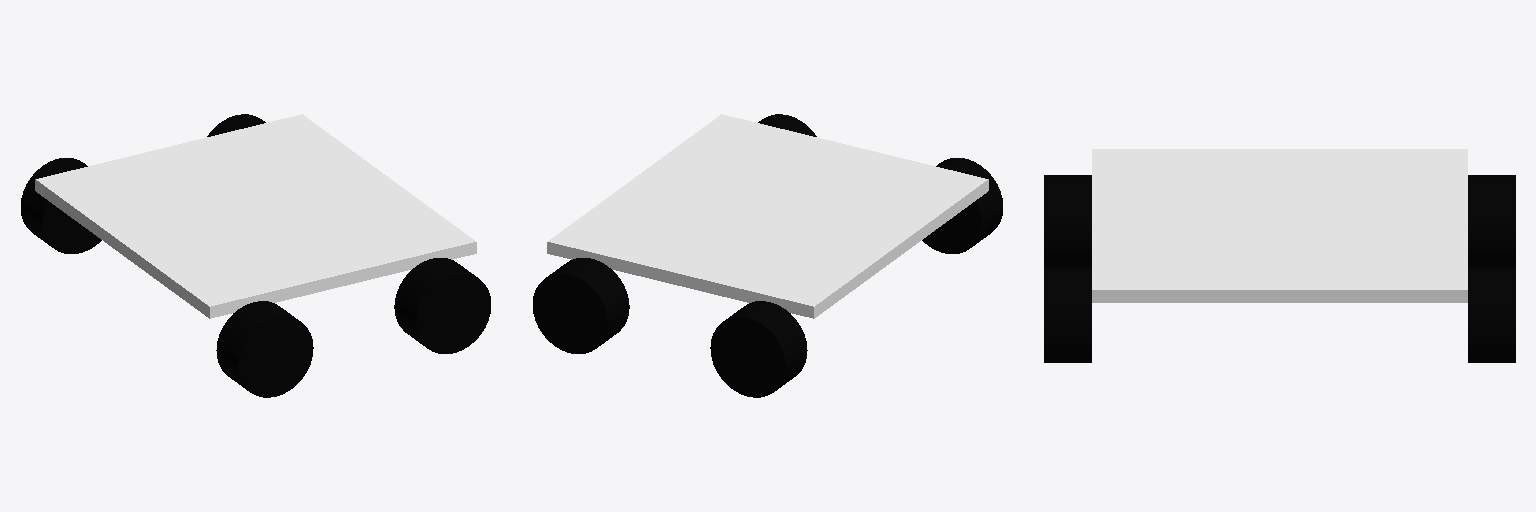
URDF robot description (hello_robot):
<?xml version="1.0" ?>
<!-- =================================================================================== -->
<!-- |    This document was autogenerated by xacro from hello_robot.xacro              | -->
<!-- |    EDITING THIS FILE BY HAND IS NOT RECOMMENDED                                 | -->
<!-- =================================================================================== -->
<robot name="hello_robot">
  <material name="white">
    <color rgba="1 1 1 1"/>
  </material>
  <material name="black">
    <color rgba=".05 .05 .05 1"/>
  </material>
  <link name="base_link">
    <visual>
      <geometry>
        <box size="0.23 0.26 0.01"/>
      </geometry>
      <material name="white"/>
    </visual>
  </link>
  <link name="left_front_wheel">
    <visual>
      <origin rpy="1.57075 0 0" xyz="0 0 0"/>
      <geometry>
        <cylinder length="0.0325" radius="0.0325"/>
      </geometry>
      <material name="black"/>
    </visual>
    <collision>
      <origin rpy="1.57075 0 0" xyz="0 0 0"/>
      <geometry>
        <cylinder length="0.0325" radius="0.0325"/>
      </geometry>
    </collision>
    <inertial>
      <mass value="1"/>
      <inertia ixx="1.0" ixy="0.0" ixz="0.0" iyy="1.0" iyz="0.0" izz="1.0"/>
    </inertial>
  </link>
  <joint name="left_front_wheel_joint" type="continuous">
    <axis rpy="0 0 0" xyz="0 1 0"/>
    <parent link="base_link"/>
    <child link="left_front_wheel"/>
    <origin rpy="0 0 0" xyz="0.07666666666666667 0.14625 -0.0325"/>
  </joint>
  <link name="left_rear_wheel">
    <visual>
      <origin rpy="1.57075 0 0" xyz="0 0 0"/>
      <geometry>
        <cylinder length="0.0325" radius="0.0325"/>
      </geometry>
      <material name="black"/>
    </visual>
    <collision>
      <origin rpy="1.57075 0 0" xyz="0 0 0"/>
      <geometry>
        <cylinder length="0.0325" radius="0.0325"/>
      </geometry>
    </collision>
    <inertial>
      <mass value="1"/>
      <inertia ixx="1.0" ixy="0.0" ixz="0.0" iyy="1.0" iyz="0.0" izz="1.0"/>
    </inertial>
  </link>
  <joint name="left_rear_wheel_joint" type="continuous">
    <axis rpy="0 0 0" xyz="0 1 0"/>
    <parent link="base_link"/>
    <child link="left_rear_wheel"/>
    <origin rpy="0 0 0" xyz="-0.07666666666666667 0.14625 -0.0325"/>
  </joint>
  <link name="right_front_wheel">
    <visual>
      <origin rpy="1.57075 0 0" xyz="0 0 0"/>
      <geometry>
        <cylinder length="0.0325" radius="0.0325"/>
      </geometry>
      <material name="black"/>
    </visual>
    <collision>
      <origin rpy="1.57075 0 0" xyz="0 0 0"/>
      <geometry>
        <cylinder length="0.0325" radius="0.0325"/>
      </geometry>
    </collision>
    <inertial>
      <mass value="1"/>
      <inertia ixx="1.0" ixy="0.0" ixz="0.0" iyy="1.0" iyz="0.0" izz="1.0"/>
    </inertial>
  </link>
  <joint name="right_front_wheel_joint" type="continuous">
    <axis rpy="0 0 0" xyz="0 1 0"/>
    <parent link="base_link"/>
    <child link="right_front_wheel"/>
    <origin rpy="0 0 0" xyz="0.07666666666666667 -0.14625 -0.0325"/>
  </joint>
  <link name="right_rear_wheel">
    <visual>
      <origin rpy="1.57075 0 0" xyz="0 0 0"/>
      <geometry>
        <cylinder length="0.0325" radius="0.0325"/>
      </geometry>
      <material name="black"/>
    </visual>
    <collision>
      <origin rpy="1.57075 0 0" xyz="0 0 0"/>
      <geometry>
        <cylinder length="0.0325" radius="0.0325"/>
      </geometry>
    </collision>
    <inertial>
      <mass value="1"/>
      <inertia ixx="1.0" ixy="0.0" ixz="0.0" iyy="1.0" iyz="0.0" izz="1.0"/>
    </inertial>
  </link>
  <joint name="right_rear_wheel_joint" type="continuous">
    <axis rpy="0 0 0" xyz="0 1 0"/>
    <parent link="base_link"/>
    <child link="right_rear_wheel"/>
    <origin rpy="0 0 0" xyz="-0.07666666666666667 -0.14625 -0.0325"/>
  </joint>
</robot>

--- What the picture shows (computed from the rendered views, not written in the file) ---
3 views of the same robot in one strip: view 1: azimuth 30°, elevation 25°; view 2: azimuth 150°, elevation 25°; view 3: azimuth 270°, elevation 25° (orthographic).
Model hello_robot with 5 links and 4 joints (4 continuous), rooted at base_link, posed every joint at zero.
Links seen in each view (by area): view 1: base_link, right_rear_wheel, right_front_wheel, left_rear_wheel, left_front_wheel; view 2: base_link, left_rear_wheel, left_front_wheel, right_rear_wheel, right_front_wheel; view 3: base_link, left_front_wheel, left_rear_wheel, right_front_wheel, right_rear_wheel.
Link boxes in pixels (x1,y1,x2,y2): base_link: (35, 114, 476, 318); right_rear_wheel: (216, 301, 313, 397); right_front_wheel: (394, 258, 490, 353); left_rear_wheel: (21, 158, 101, 253); left_front_wheel: (207, 114, 265, 136); base_link: (547, 114, 988, 318); left_rear_wheel: (710, 301, 807, 397); left_front_wheel: (533, 258, 629, 353); right_rear_wheel: (922, 158, 1002, 253); right_front_wheel: (758, 114, 816, 136); base_link: (1092, 149, 1467, 302); left_front_wheel: (1468, 269, 1515, 362); left_rear_wheel: (1468, 175, 1515, 268); right_front_wheel: (1044, 269, 1091, 362); right_rear_wheel: (1044, 175, 1091, 268).
Size in the robot's own frame: 0.23 by 0.325 by 0.07 metres.
Geometry: primitives only (box / cylinder / sphere), no mesh files.